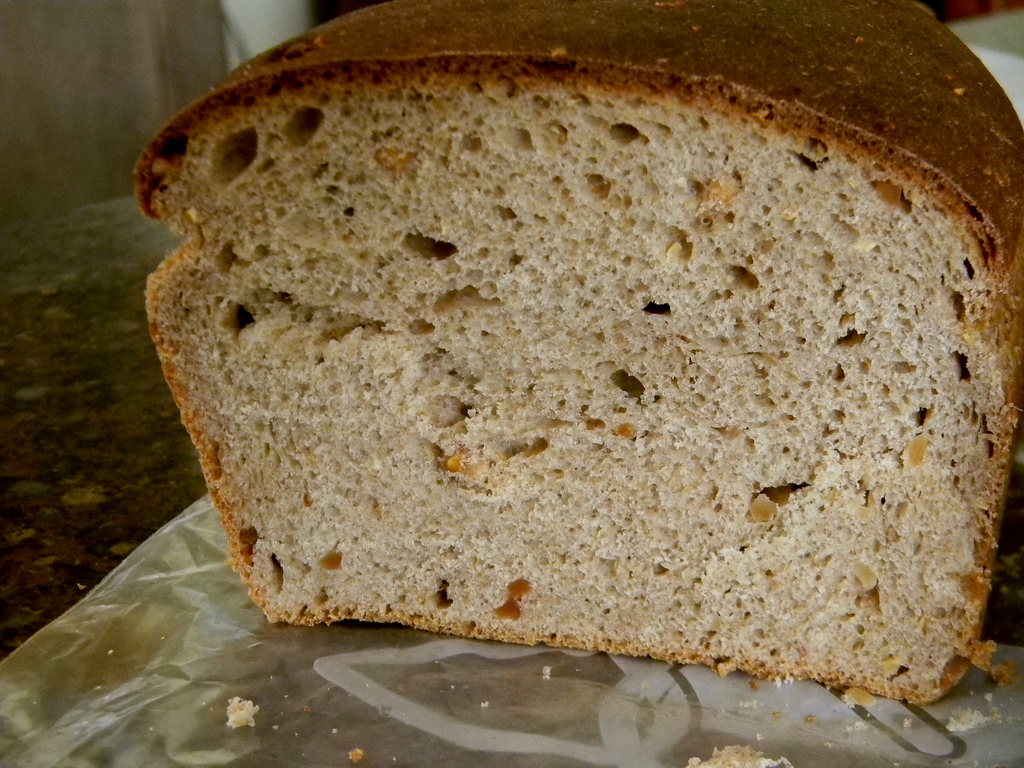slice of bread: (131, 3, 1024, 702)
